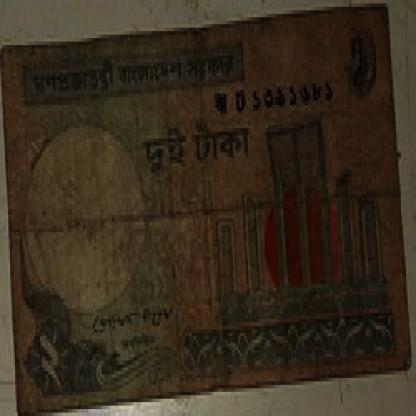two taka: (340, 38, 384, 115), (35, 319, 70, 406)
